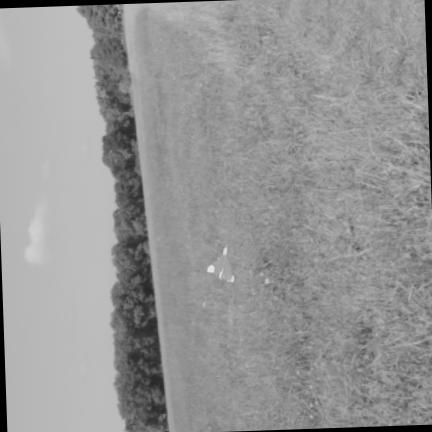Shahed: (207, 247, 234, 280)
